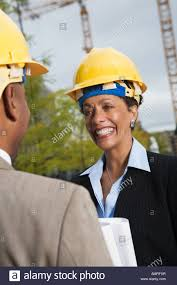Person_wearing_helmet: (65, 46, 147, 113)
